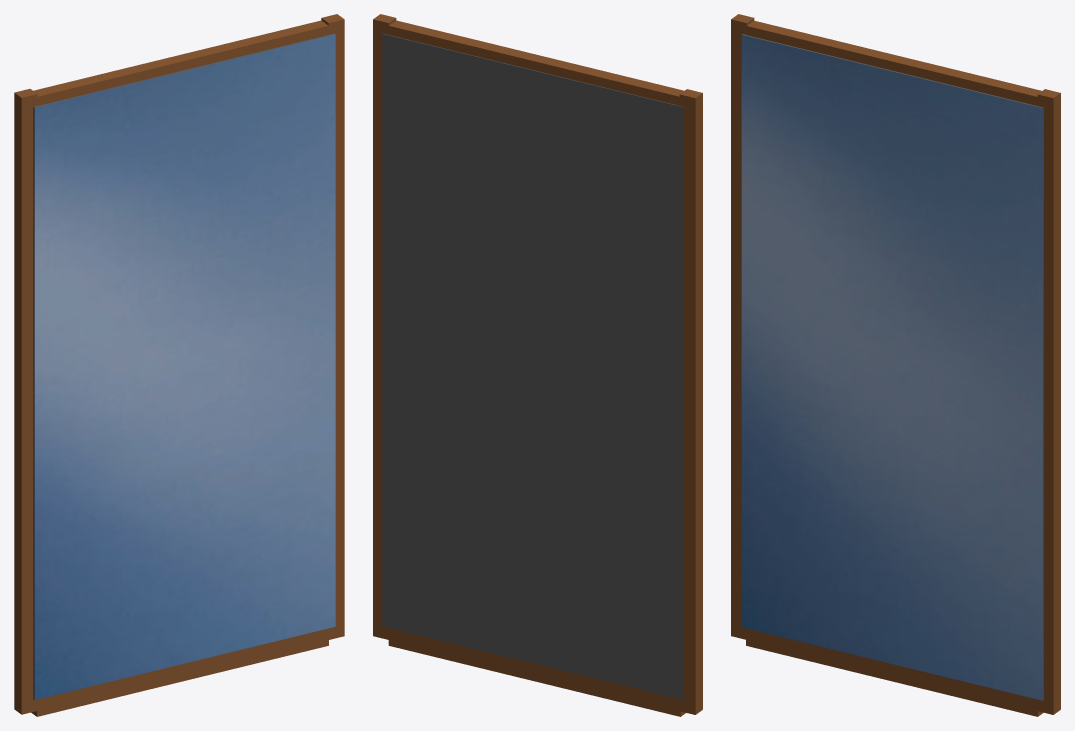
File: puerta.obj
3 views of the same model, side by side, from view 1: azimuth 30°, elevation 25°; view 2: azimuth 150°, elevation 25°; view 3: azimuth 330°, elevation 25° (orthographic).
Parts seen in each view (by area): view 1: vidrio:Object01pasted__pasted__pasted__group86pasted__pasted__gr, PuertaB:polySurface99; view 2: vidrio:Object01pasted__pasted__pasted__group86pasted__pasted__gr, PuertaB:polySurface99; view 3: vidrio:Object01pasted__pasted__pasted__group86pasted__pasted__gr, PuertaB:polySurface99.
Part boxes in pixels (<box>): vidrio:Object01pasted__pasted__pasted__group86pasted__pasted__gr: <box>33,33,335,699</box>; PuertaB:polySurface99: <box>14,14,344,716</box>; vidrio:Object01pasted__pasted__pasted__group86pasted__pasted__gr: <box>382,33,683,699</box>; PuertaB:polySurface99: <box>373,14,702,716</box>; vidrio:Object01pasted__pasted__pasted__group86pasted__pasted__gr: <box>741,34,1043,700</box>; PuertaB:polySurface99: <box>731,14,1060,716</box>.
Bounding box in the file's own units: 1.8 × 3.31 × 0.0835.
